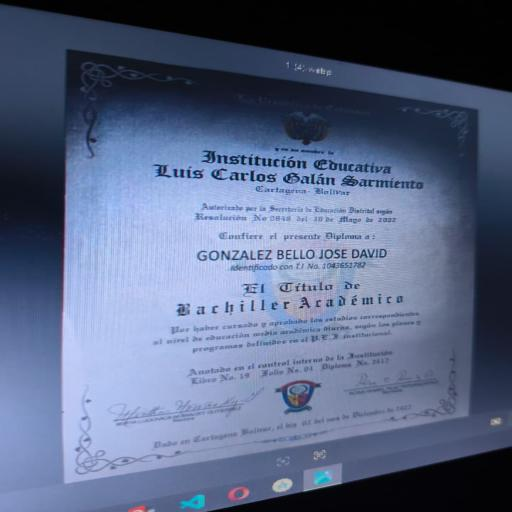bachillerato: (156, 291, 417, 325)
diploma: (64, 49, 481, 487)
escudo: (265, 93, 344, 153)
firma: (92, 392, 258, 444), (332, 356, 457, 407)
institucion: (123, 139, 434, 199)
nombre: (173, 244, 412, 269)
